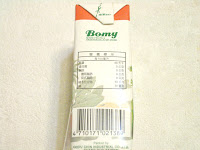vegetables juice: (67, 1, 135, 149)
